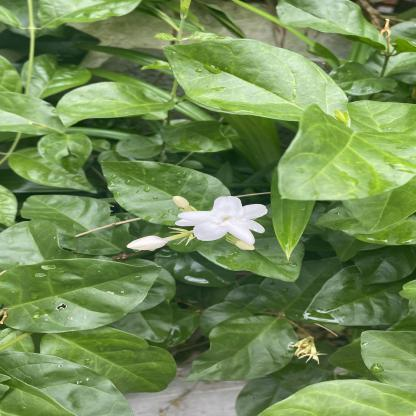Melati: (127, 190, 292, 267)
